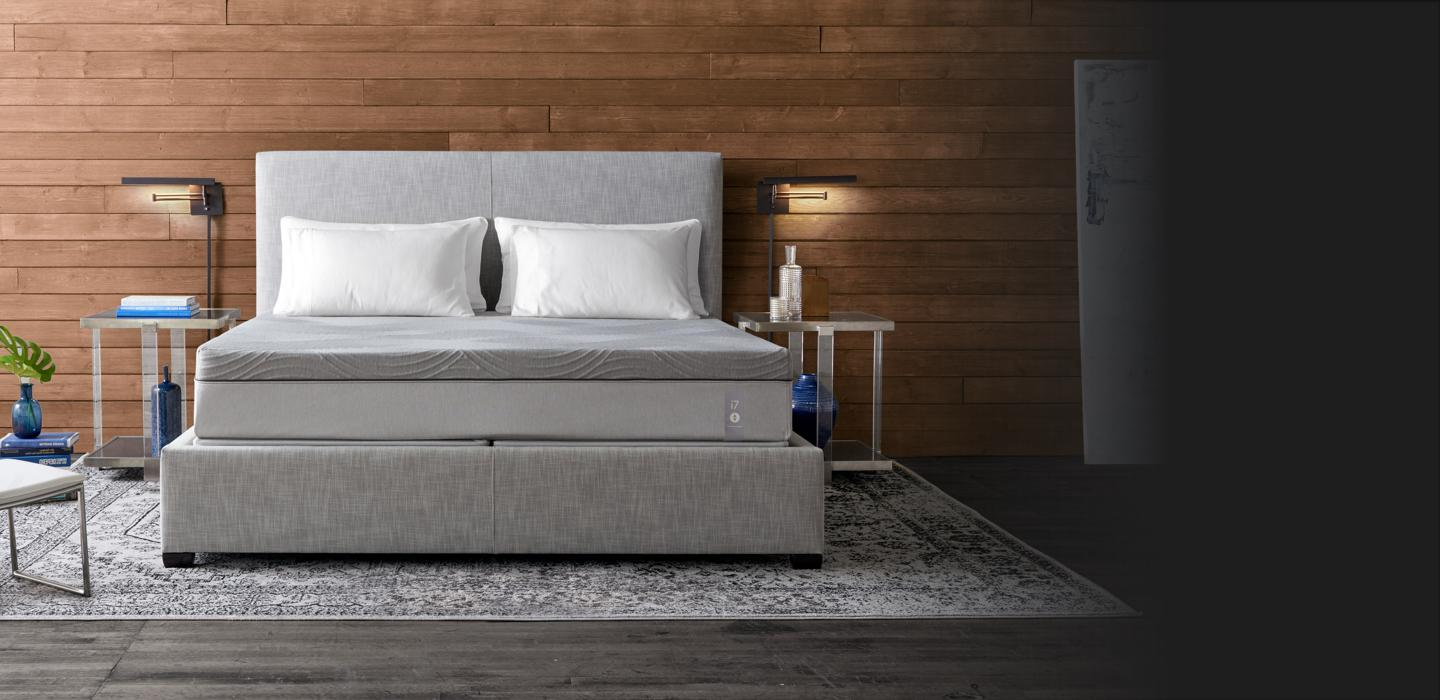bed: (154, 116, 843, 581)
